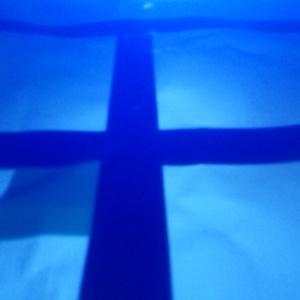bottom_left: (1, 133, 161, 237)
